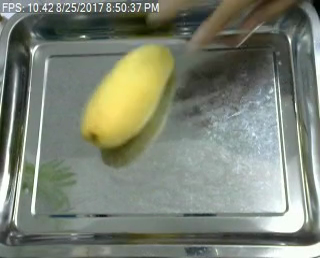Mango: (74, 40, 181, 152)
